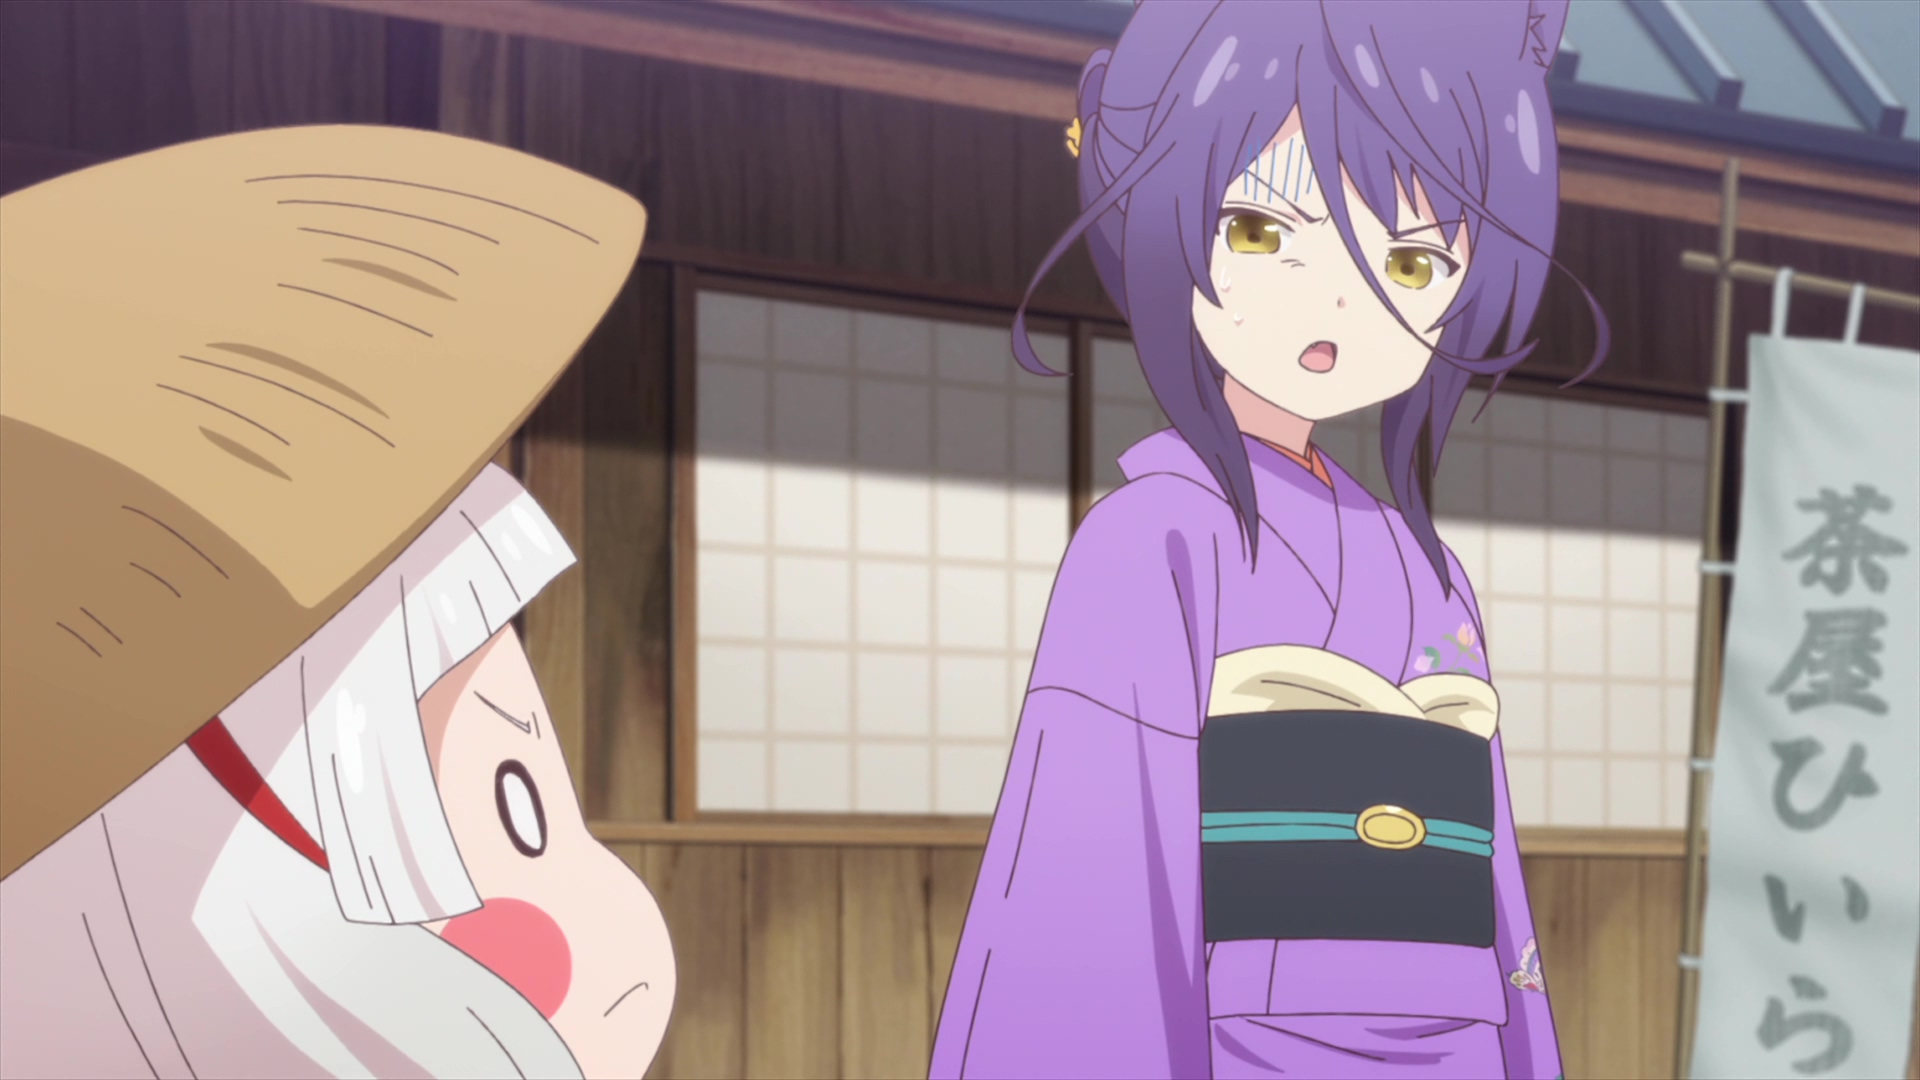其他: (1, 127, 680, 1080)
皋: (924, 1, 1606, 1080)
